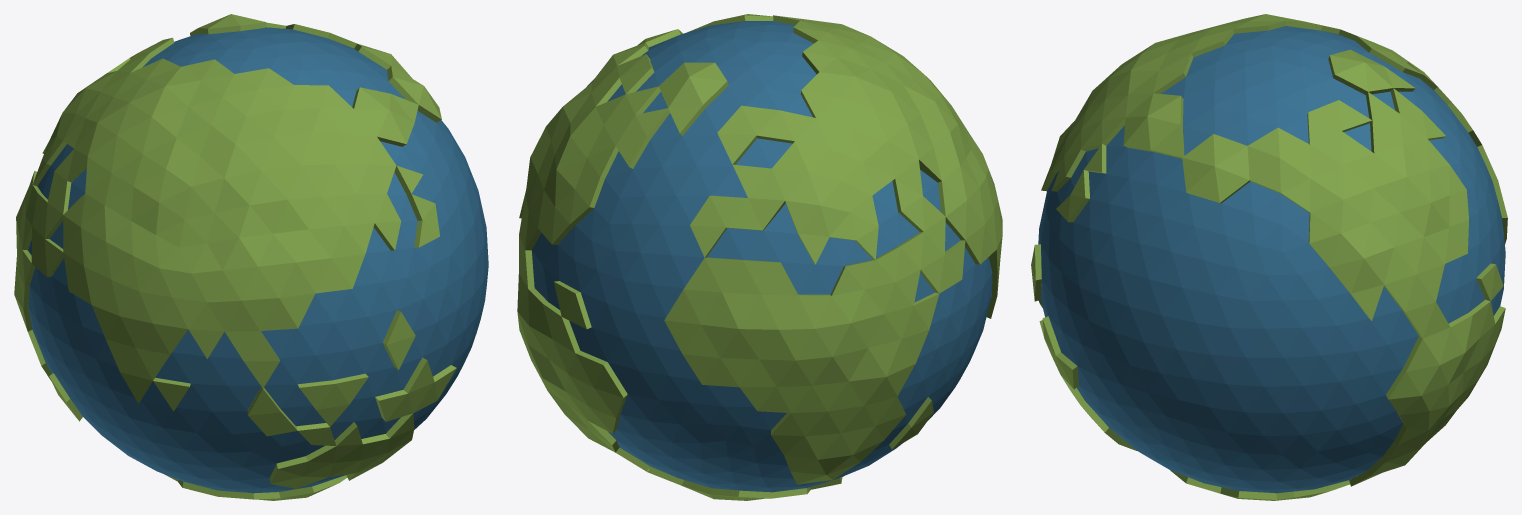
The model's file is earth.791d0b95.gltf.
The picture shows the model from 3 angles, left to right: view 1: azimuth 30°, elevation 25°; view 2: azimuth 150°, elevation 25°; view 3: azimuth 270°, elevation 25°; orthographic projection.
Visible parts, largest first — view 1: URF-Height; view 2: URF-Height; view 3: URF-Height.
Part boxes in pixels (left/top/right/bottom): URF-Height: left=14, top=14, right=488, bottom=500; URF-Height: left=517, top=14, right=1002, bottom=500; URF-Height: left=1031, top=14, right=1507, bottom=500.
Size of the model in its own units: 201 by 206 by 203.
